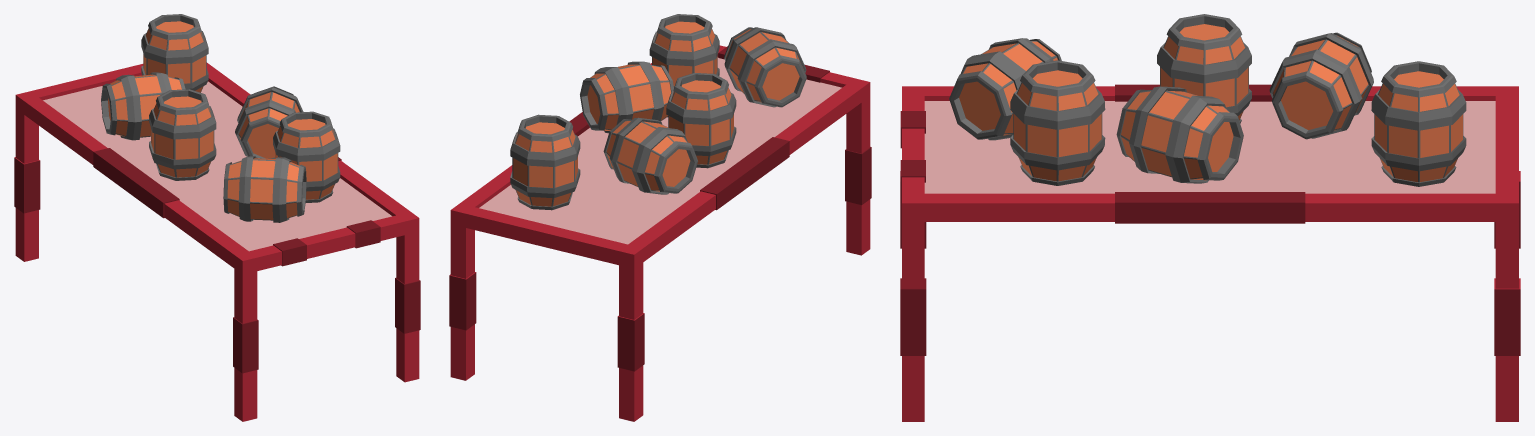
Rendered from varilengel.fbx.
3 views of the same model, side by side, from view 1: azimuth 30°, elevation 25°; view 2: azimuth 150°, elevation 25°; view 3: azimuth 270°, elevation 25° (orthographic). The views are drawn at different scales.
Visible parts, largest first — view 1: Cube.004, Cube.002, Cylinder.004, Cylinder.001, Cube.003, Cylinder, Cylinder.005, Cylinder.003, Cylinder.002; view 2: Cube.004, Cube.002, Cylinder.005, Cylinder.003, Cylinder.001, Cylinder.002, Cylinder.004, Cube.003, Cylinder; view 3: Cube.004, Cube.003, Cylinder.005, Cylinder, Cylinder.002, Cube.002, Cylinder.003, Cylinder.004, Cylinder.001.
Boxes of the visible parts, left/top/right/bottom form: Cube.004: left=14, top=62, right=420, bottom=421; Cube.002: left=43, top=86, right=318, bottom=251; Cylinder.004: left=149, top=89, right=216, bottom=180; Cylinder.001: left=223, top=156, right=306, bottom=222; Cube.003: left=201, top=81, right=391, bottom=234; Cylinder: left=273, top=111, right=340, bottom=202; Cylinder.005: left=141, top=14, right=208, bottom=92; Cylinder.003: left=101, top=72, right=185, bottom=140; Cylinder.002: left=235, top=86, right=303, bottom=158; Cube.004: left=449, top=45, right=871, bottom=421; Cube.002: left=556, top=79, right=841, bottom=244; Cylinder.005: left=510, top=114, right=580, bottom=210; Cylinder.003: left=603, top=117, right=697, bottom=194; Cylinder.001: left=724, top=27, right=806, bottom=107; Cylinder.002: left=580, top=61, right=673, bottom=133; Cylinder.004: left=666, top=72, right=736, bottom=168; Cube.003: left=479, top=57, right=739, bottom=226; Cylinder: left=649, top=14, right=719, bottom=87; Cube.004: left=900, top=84, right=1520, bottom=421; Cube.003: left=924, top=150, right=1495, bottom=193; Cylinder.005: left=1371, top=61, right=1466, bottom=186; Cylinder: left=1010, top=60, right=1105, bottom=185; Cylinder.002: left=1116, top=86, right=1243, bottom=183; Cube.002: left=924, top=101, right=1495, bottom=149; Cylinder.003: left=1269, top=32, right=1373, bottom=139; Cylinder.004: left=1157, top=14, right=1251, bottom=123; Cylinder.001: left=949, top=38, right=1061, bottom=140.
Bounding box in the file's own units: 101 × 124 × 224.
